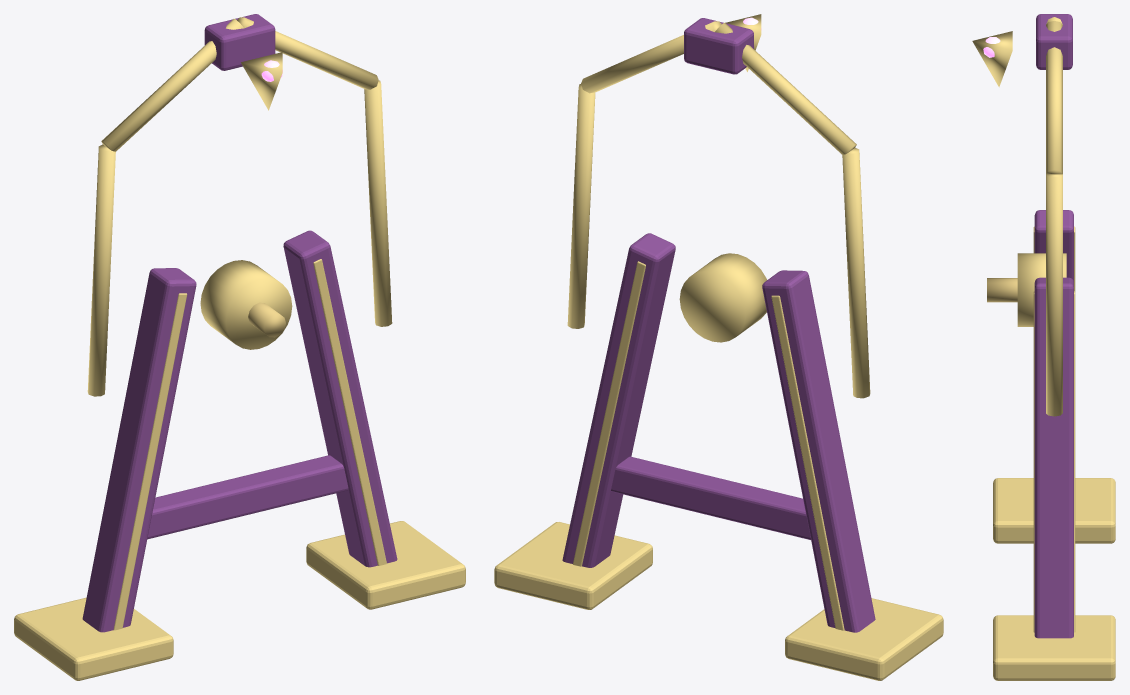
The model's file is pc_wheel_stand.glb.
3 views of the same model, side by side, from view 1: azimuth 30°, elevation 25°; view 2: azimuth 150°, elevation 25°; view 3: azimuth 270°, elevation 25° (orthographic). The views are drawn at different scales.
Visible parts, largest first — view 1: pc_wheel_stand; view 2: pc_wheel_stand; view 3: pc_wheel_stand.
Boxes of the visible parts, x1=… form: pc_wheel_stand: x1=14, y1=14, x2=465, y2=680; pc_wheel_stand: x1=494, y1=14, x2=943, y2=680; pc_wheel_stand: x1=972, y1=14, x2=1115, y2=680.
Bounding box in the file's own units: 3.55 × 5.14 × 1.17.
